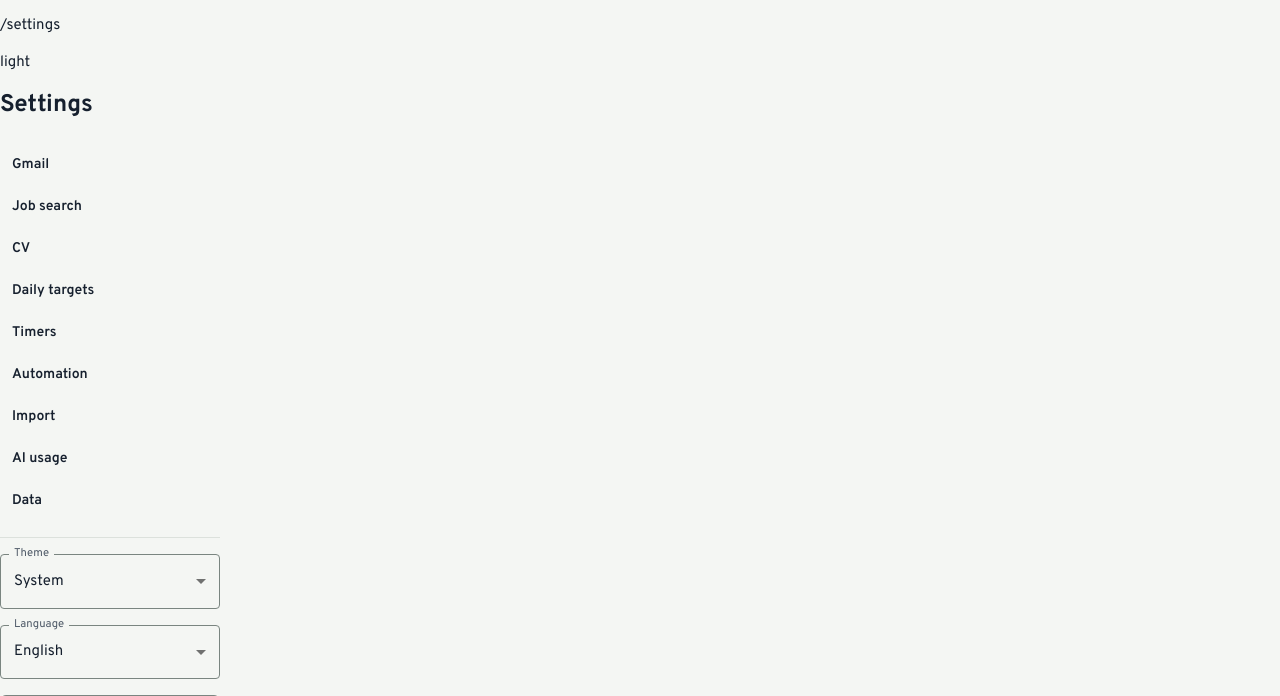
Test: SettingsPage › on phones the list and the section are separate screens › tapping a section shows it in place of the list
Click the link "Daily targets": (53, 290) [12,282,94,299]
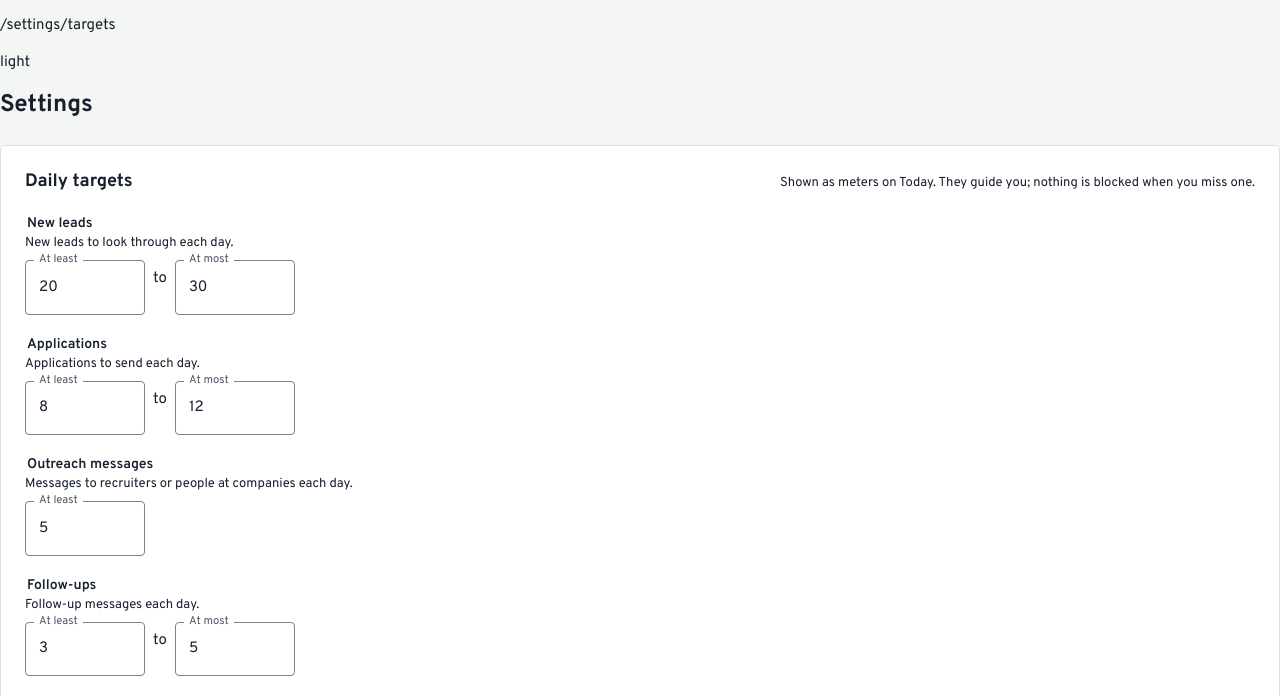
Expected: the heading "Daily targets" is shown, [25,170,133,194]
Result: the text with test id "where" reads "/settings/targets" at [0,16,116,35]
